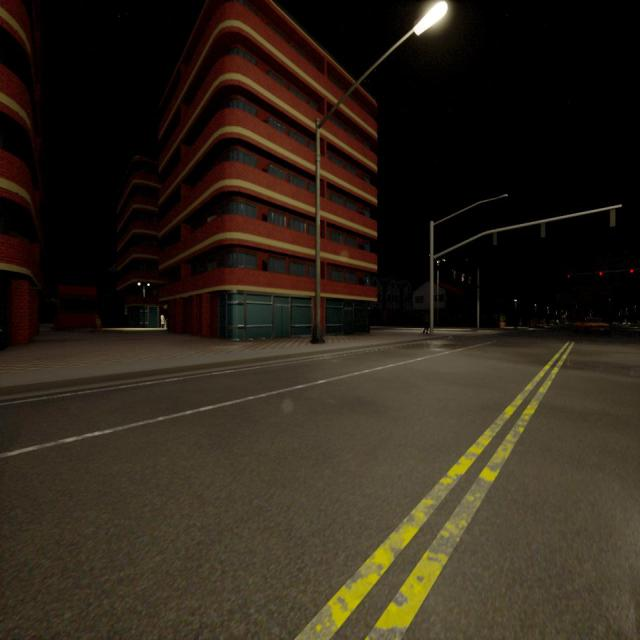Pedestrian: (423, 308, 429, 334)
Vehicle: (572, 318, 610, 337)
traffic_light: (610, 208, 615, 226), (541, 223, 545, 237), (493, 232, 497, 245), (461, 274, 464, 282), (630, 268, 634, 273), (599, 272, 603, 276), (469, 276, 471, 284), (454, 271, 456, 278), (567, 274, 570, 278)
